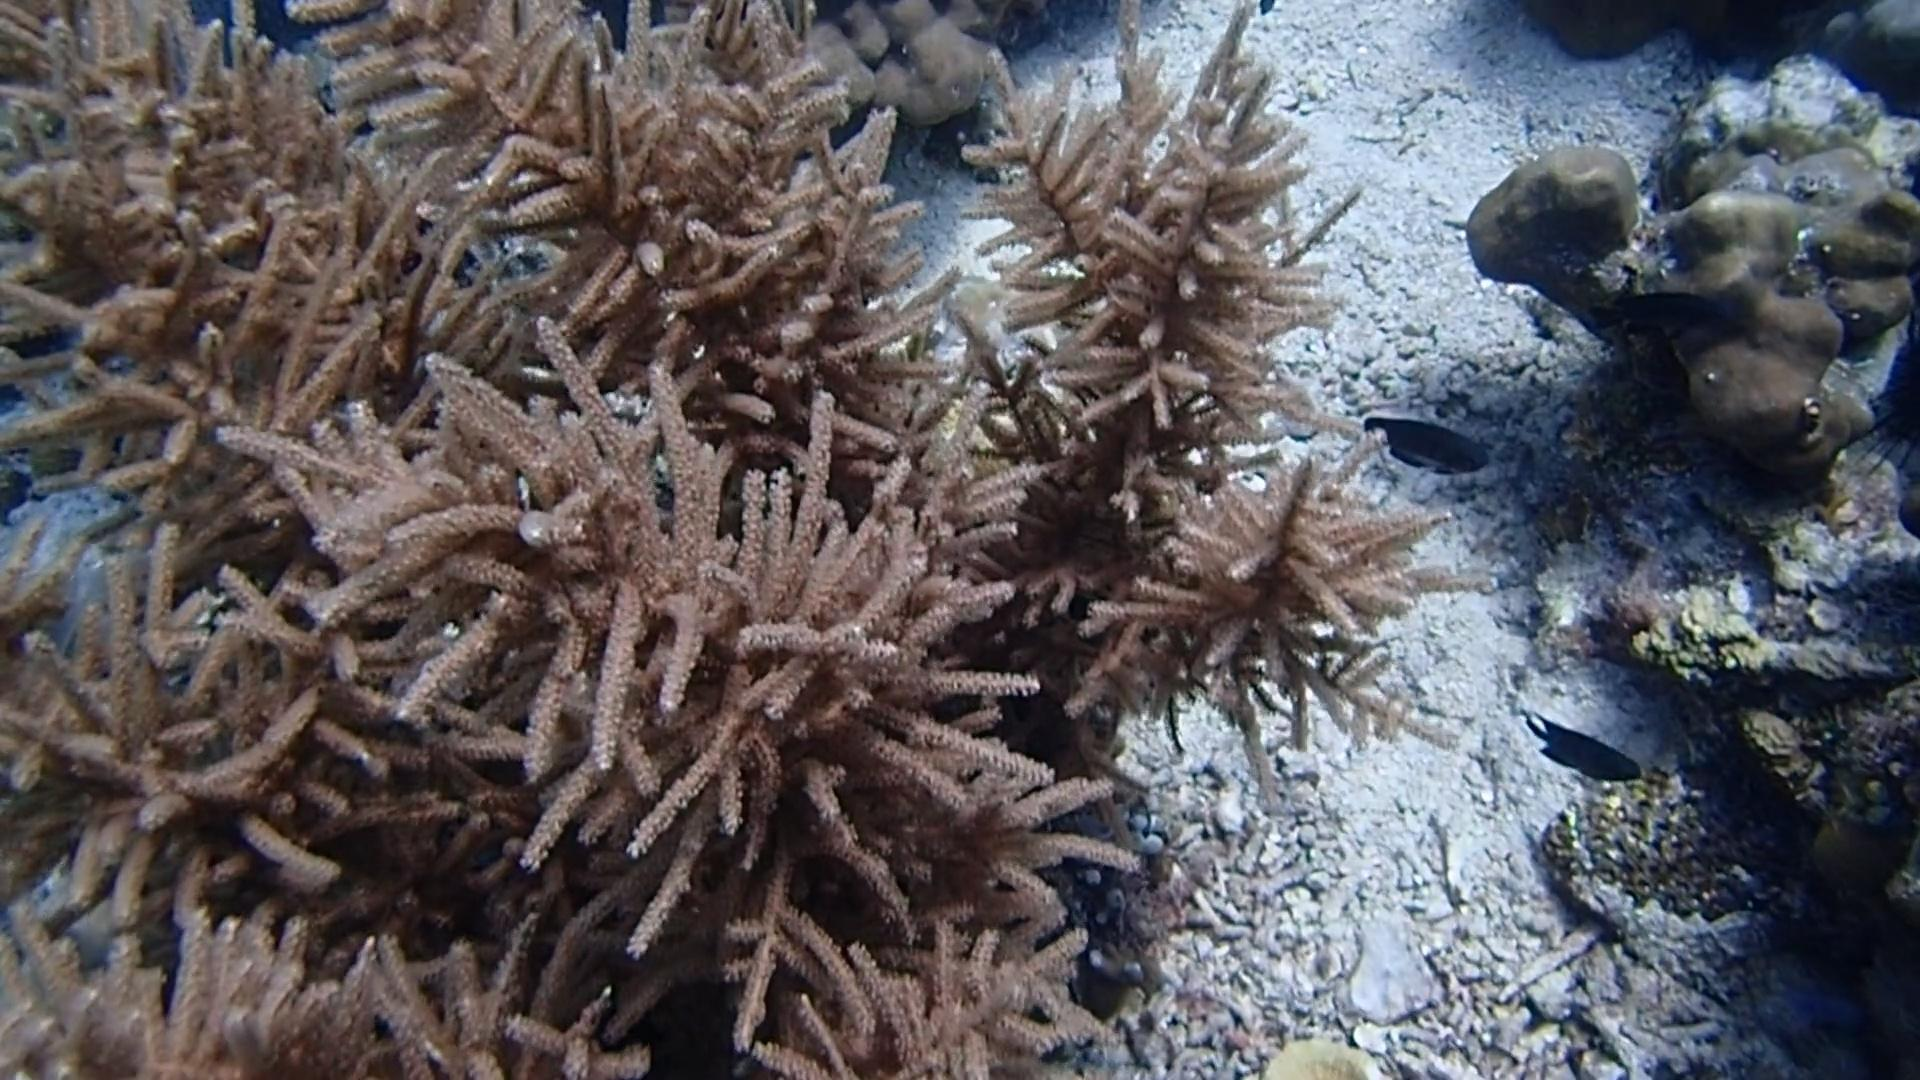Dark Fish: (1350, 401, 1493, 487), (1516, 700, 1643, 791), (1588, 284, 1726, 348)
